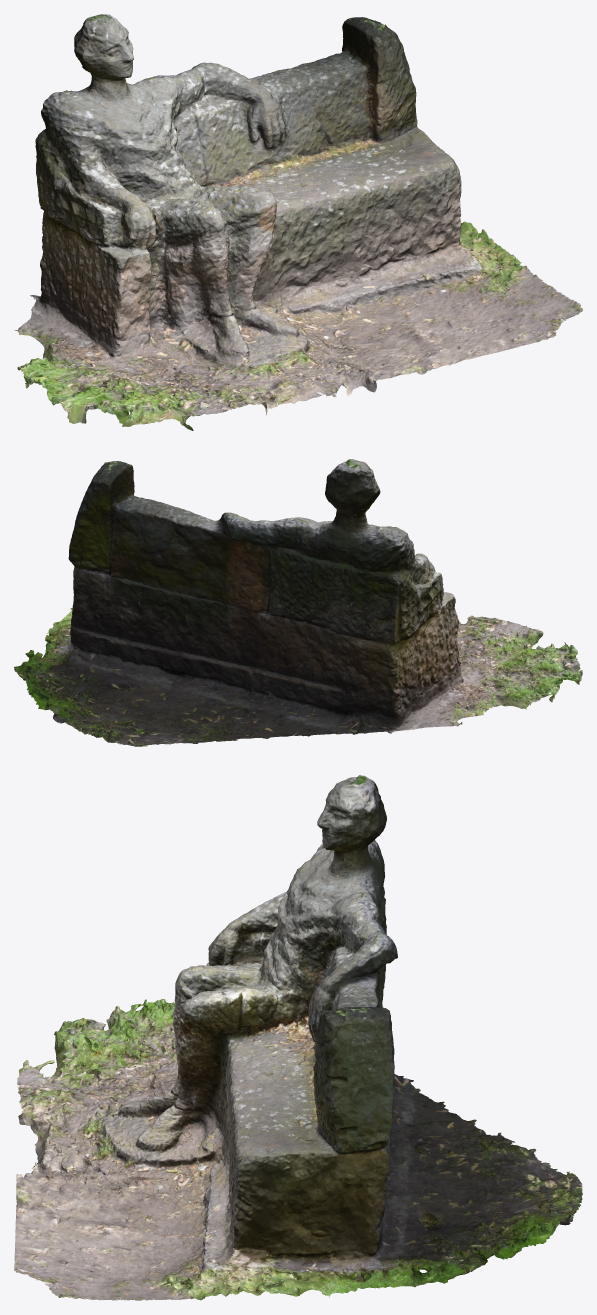
3 views of the same model, one above another, from view 1: azimuth 30°, elevation 25°; view 2: azimuth 150°, elevation 25°; view 3: azimuth 270°, elevation 25° (orthographic). The views are drawn at different scales.
Visible parts, largest first — view 1: 2k.50k; view 2: 2k.50k; view 3: 2k.50k.
Part boxes in pixels (bbox=[...]): 2k.50k: bbox=[14, 14, 582, 430]; 2k.50k: bbox=[14, 459, 582, 746]; 2k.50k: bbox=[14, 775, 582, 1300].
Bounding box in the file's own units: 2.39 × 1.36 × 2.05.
Materials: 1 (1 with a texture image).
